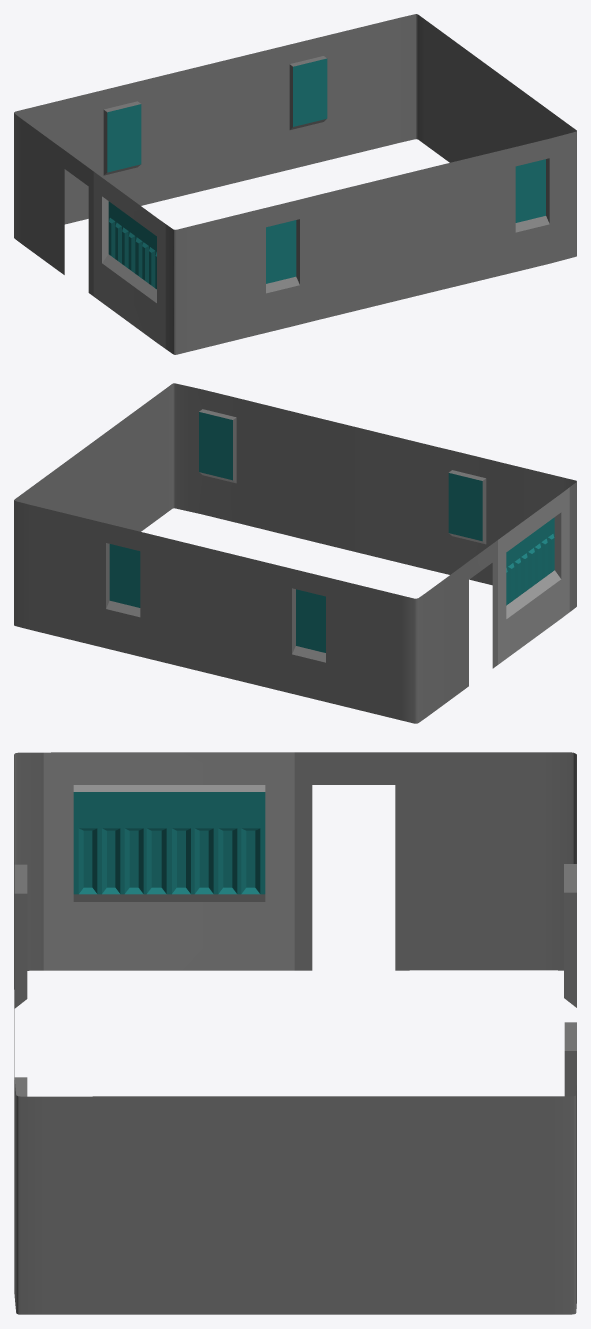
File: FirstEtage.fbx
3 renders of one model, top to bottom at view 1: azimuth 30°, elevation 25°; view 2: azimuth 150°, elevation 25°; view 3: azimuth 270°, elevation 25°, orthographic. The views are drawn at different scales.
Visible parts, largest first — view 1: Object059; view 2: Object059; view 3: Object059.
Part boxes in pixels (x1,y1,x2,y2): Object059: (14, 14, 576, 354); Object059: (14, 383, 576, 723); Object059: (14, 752, 576, 1314).
Bounding box in the file's own units: 320 × 94.49 × 221.
